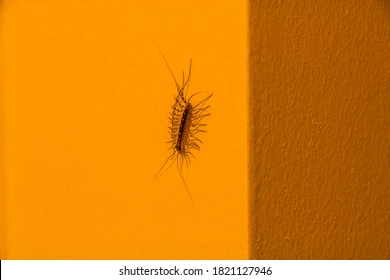centipede: (148, 41, 219, 196)
